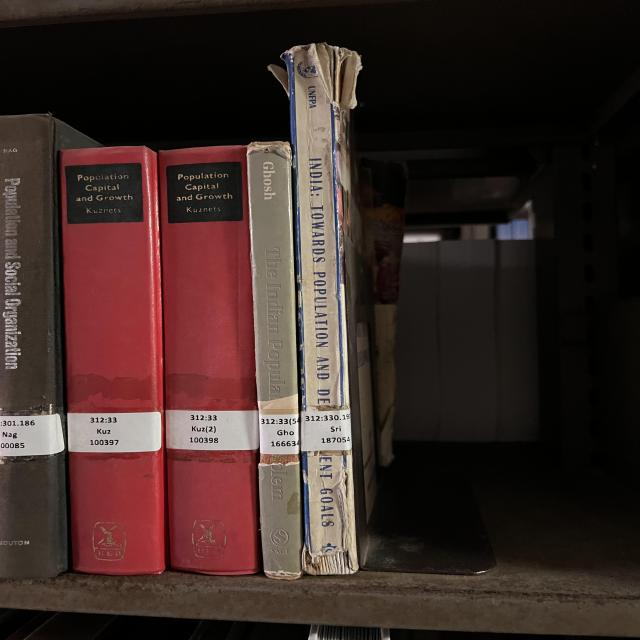Book: (60, 146, 165, 575), (158, 146, 260, 575), (282, 44, 362, 575), (247, 142, 302, 579)
Label: (67, 411, 162, 452), (167, 410, 258, 450), (258, 414, 300, 455)
